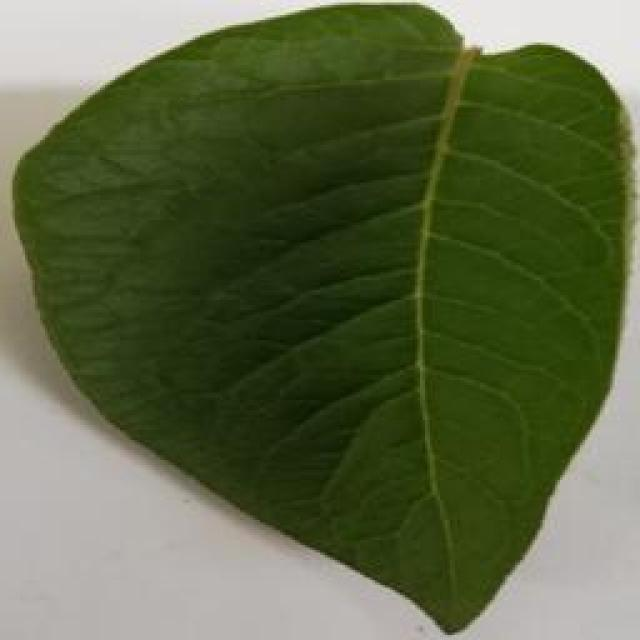Potato_Healthy: (12, 6, 626, 633)
